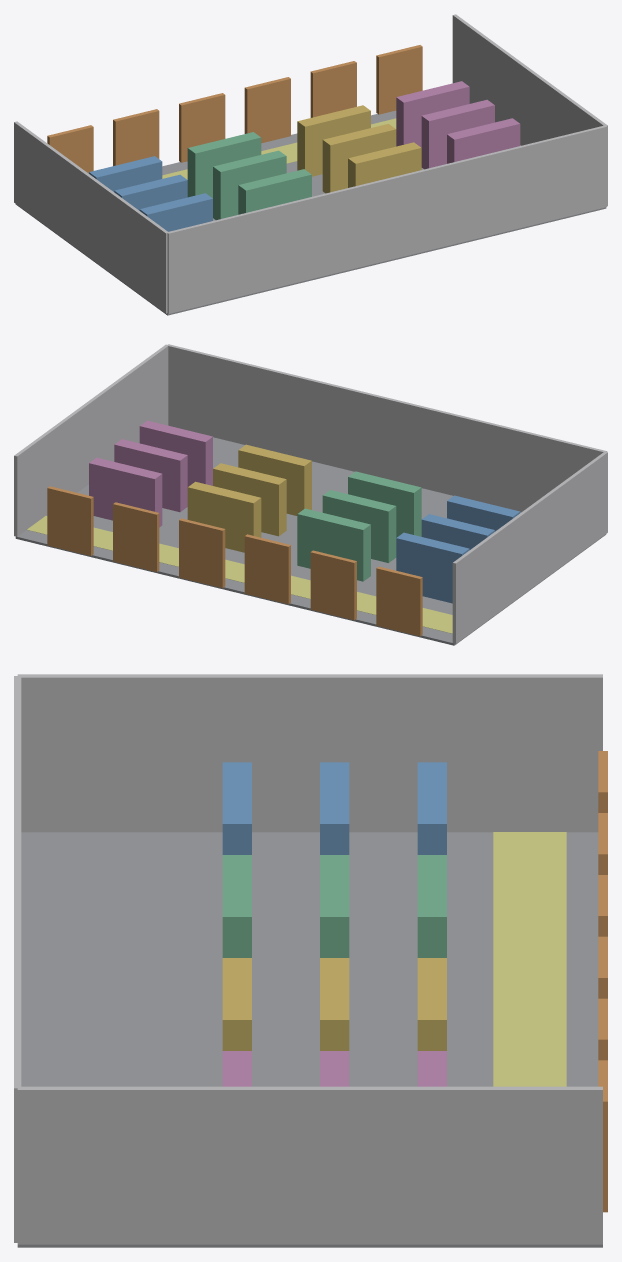
File: layout_whatif.glb
3 views of the same model, one above another, from view 1: azimuth 30°, elevation 25°; view 2: azimuth 150°, elevation 25°; view 3: azimuth 270°, elevation 25° (orthographic). The views are drawn at different scales.
Parts seen in each view (by area): view 1: geometry_0; view 2: geometry_0; view 3: geometry_0.
Part boxes in pixels (box(x1,y1,x2,y2)): geometry_0: box(14, 14, 607, 315); geometry_0: box(14, 344, 607, 645); geometry_0: box(14, 674, 607, 1247).
Bounding box in the file's own units: 40.3 × 7.2 × 24.35.
